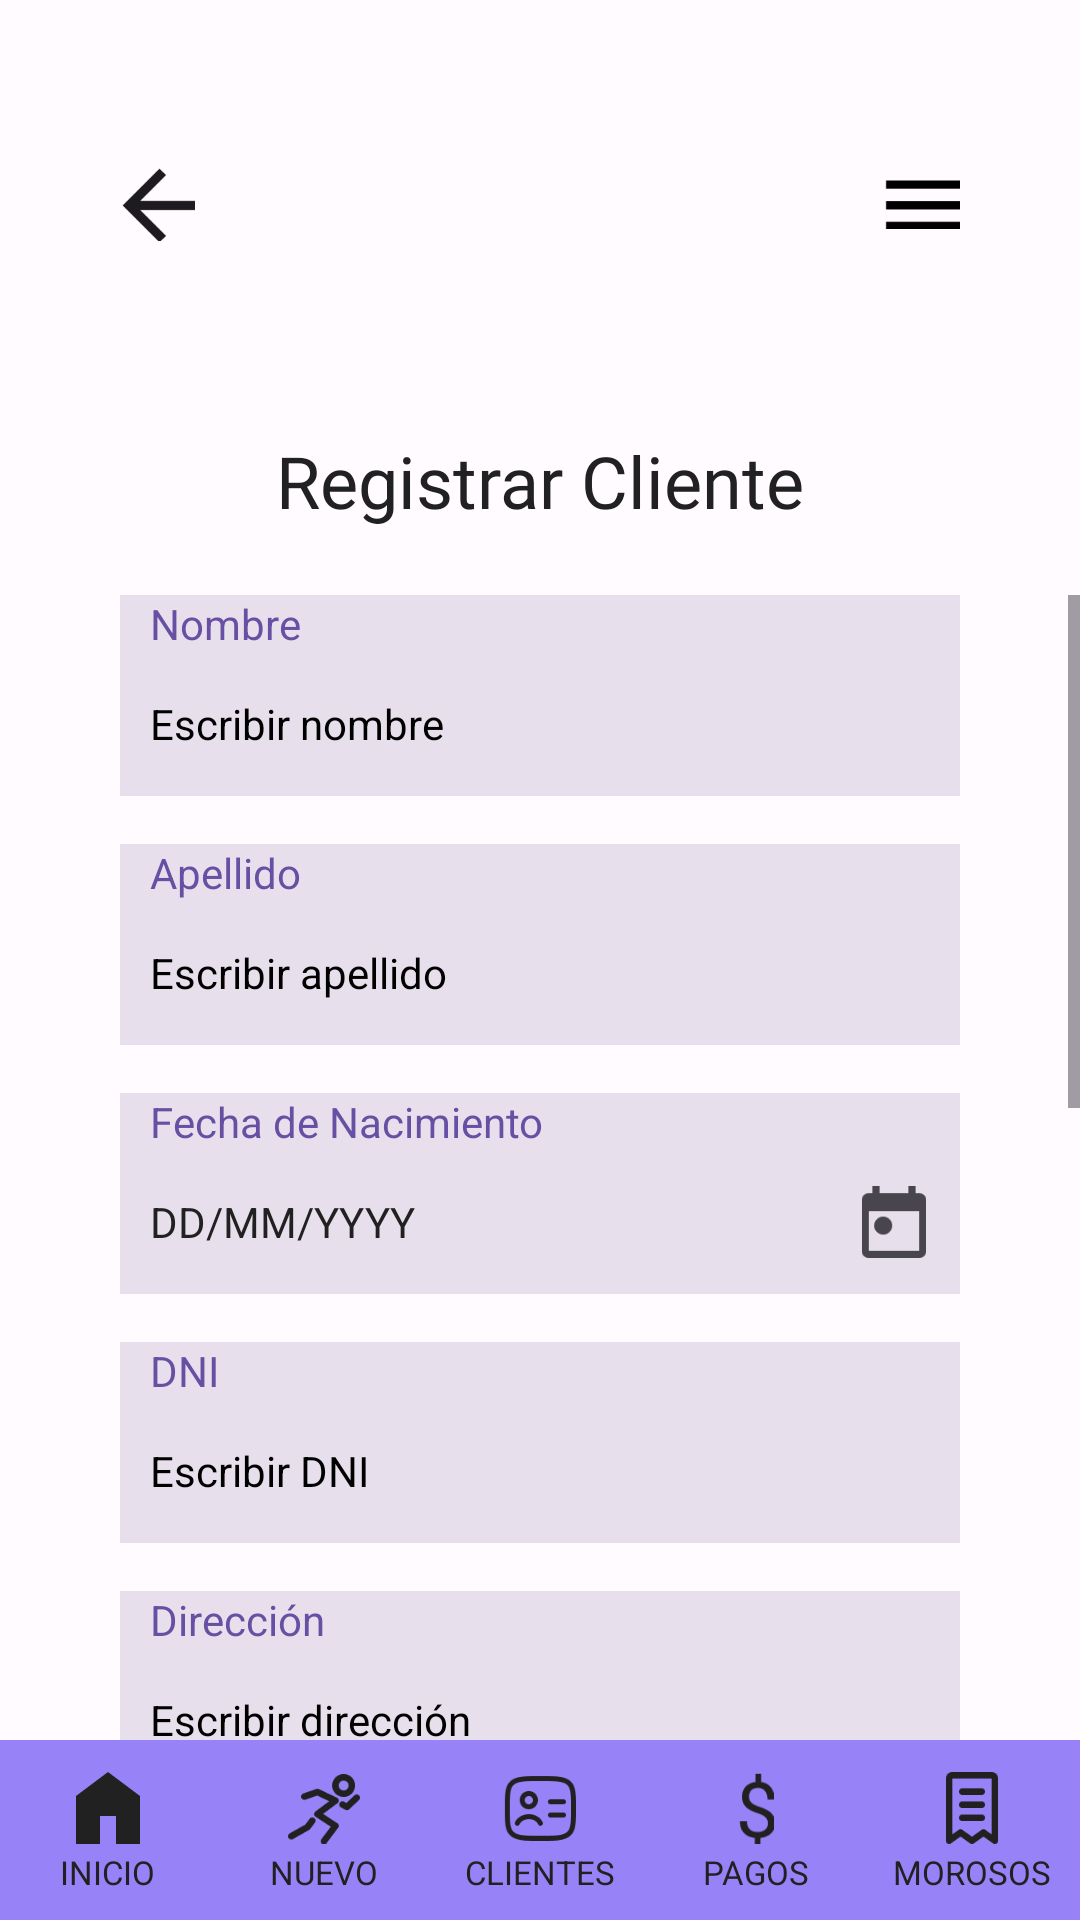

Named icons in this screenshot (1080px×1920px) and their bounding boxes, (x1, y1, x2, y2):
Menú: (885, 180, 960, 229)
Seleccionar fecha: (862, 1186, 926, 1258)
Volver: (122, 168, 195, 241)
